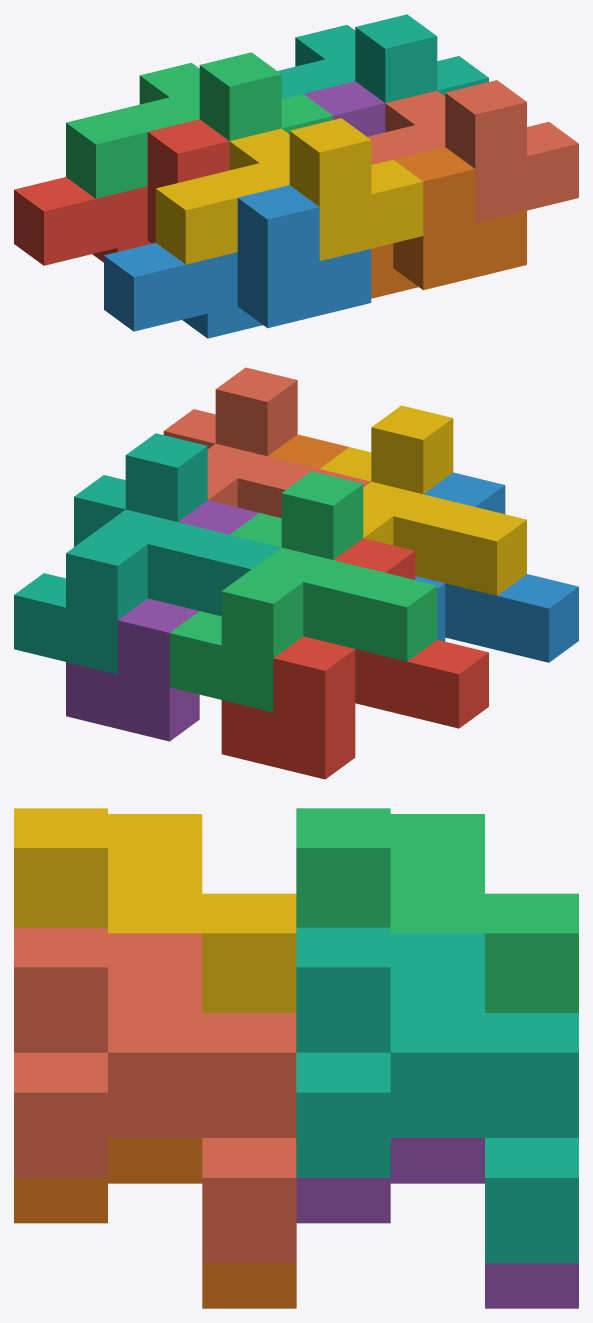
The model's file is tiling.obj.
The picture shows the model from 3 angles, top to bottom: view 1: azimuth 30°, elevation 25°; view 2: azimuth 150°, elevation 25°; view 3: azimuth 270°, elevation 25°; orthographic projection. The views are drawn at different scales.
Visible parts, largest first — view 1: copy_1_domain_2, copy_1_domain_4, copy_1_domain_3, copy_1_domain_8, copy_1_domain_1, copy_1_domain_6, copy_1_domain_7, copy_1_domain_5; view 2: copy_1_domain_3, copy_1_domain_7, copy_1_domain_1, copy_1_domain_4, copy_1_domain_5, copy_1_domain_8, copy_1_domain_2, copy_1_domain_6; view 3: copy_1_domain_8, copy_1_domain_7, copy_1_domain_4, copy_1_domain_3, copy_1_domain_6, copy_1_domain_5.
Part boxes in pixels (x1,y1,x2,y2): copy_1_domain_2: [104, 185, 371, 338]; copy_1_domain_4: [155, 118, 423, 264]; copy_1_domain_3: [66, 52, 333, 198]; copy_1_domain_8: [367, 80, 578, 222]; copy_1_domain_1: [14, 119, 229, 265]; copy_1_domain_6: [371, 147, 526, 298]; copy_1_domain_7: [277, 14, 488, 102]; copy_1_domain_5: [304, 81, 385, 136]; copy_1_domain_3: [169, 471, 437, 712]; copy_1_domain_7: [14, 433, 280, 674]; copy_1_domain_1: [221, 538, 488, 779]; copy_1_domain_4: [320, 405, 526, 595]; copy_1_domain_5: [66, 500, 258, 741]; copy_1_domain_8: [163, 367, 370, 517]; copy_1_domain_2: [415, 472, 578, 662]; copy_1_domain_6: [268, 434, 348, 468]; copy_1_domain_8: [14, 927, 296, 1263]; copy_1_domain_7: [296, 927, 578, 1263]; copy_1_domain_4: [14, 808, 296, 1012]; copy_1_domain_3: [296, 808, 578, 1012]; copy_1_domain_6: [14, 1138, 296, 1308]; copy_1_domain_5: [296, 1138, 578, 1308].
Bounding box in the file's own units: 8 × 4 × 6.
